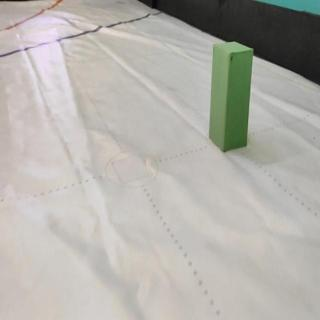greenbox: (207, 39, 254, 153)
